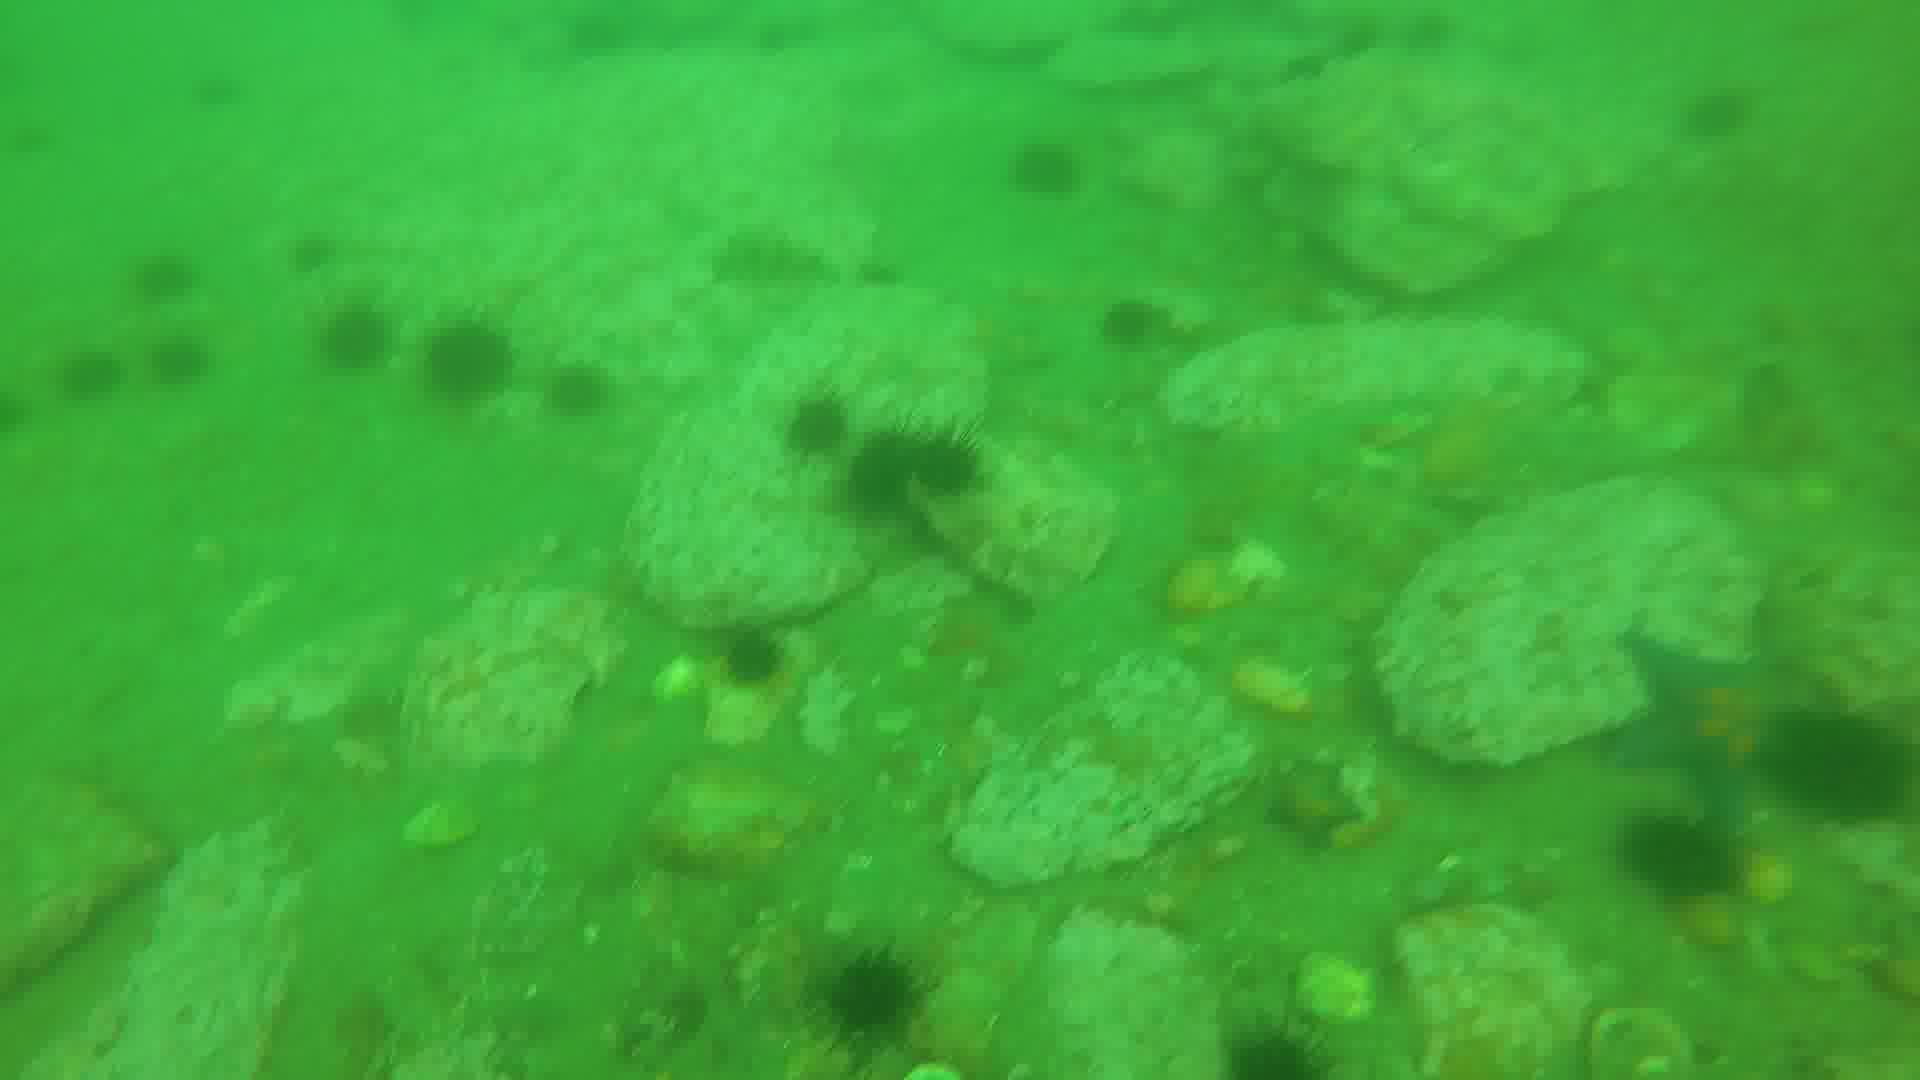echinus: (1787, 708, 1916, 825), (819, 949, 938, 1040), (1626, 808, 1733, 893), (849, 431, 934, 534), (1220, 1011, 1338, 1080), (423, 324, 518, 407), (322, 301, 394, 371), (914, 431, 985, 497), (1002, 146, 1087, 200), (783, 397, 857, 458), (148, 331, 218, 386), (1692, 80, 1760, 136), (720, 628, 783, 684), (1100, 305, 1176, 351), (549, 363, 611, 419), (131, 258, 204, 303), (62, 353, 123, 404), (294, 235, 345, 278)
scallop: (700, 675, 785, 752)
starfish: (1613, 630, 1832, 823), (1266, 761, 1360, 848)
